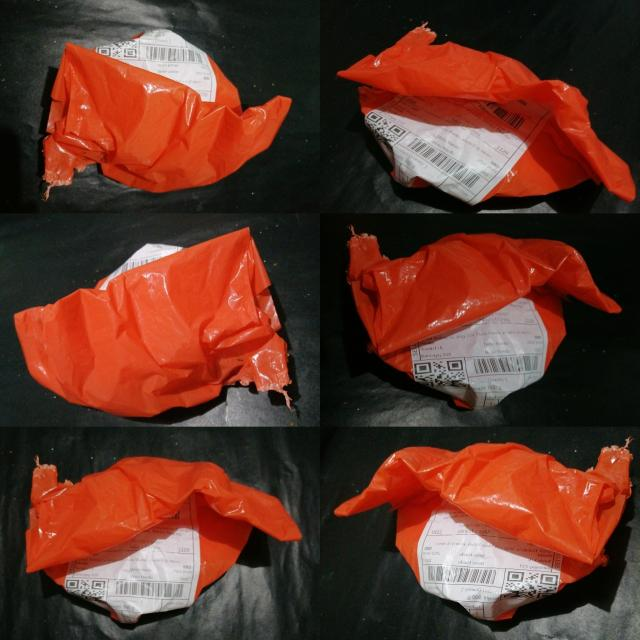Single-layer Plastic: (338, 25, 635, 205), (334, 442, 632, 619), (15, 228, 290, 417), (348, 234, 620, 409), (26, 456, 300, 623), (44, 29, 291, 197)
